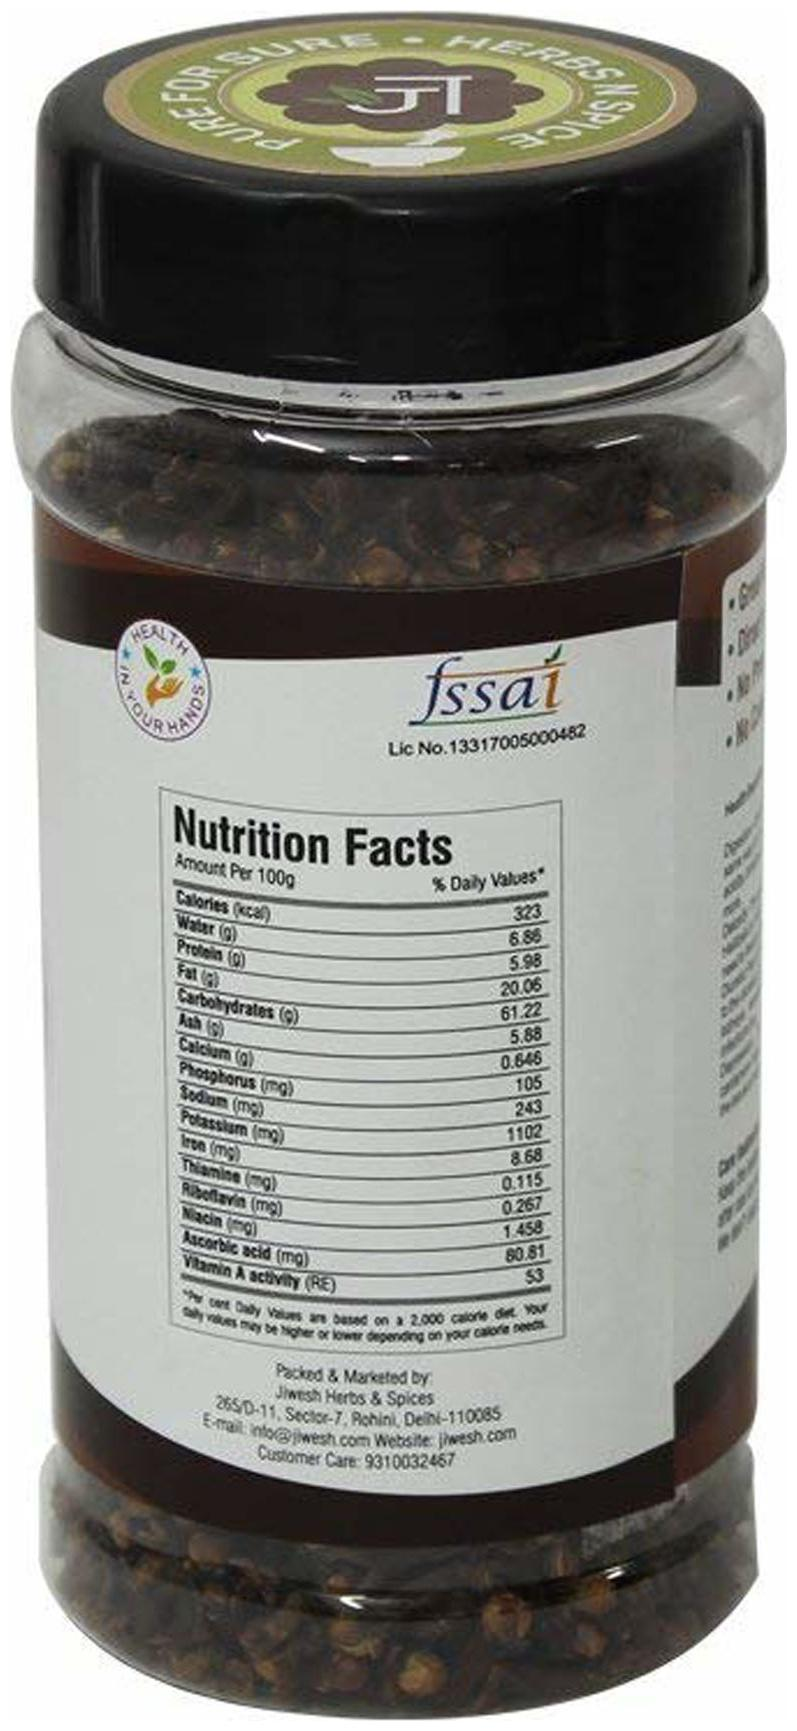fssai: (410, 654, 568, 726)
